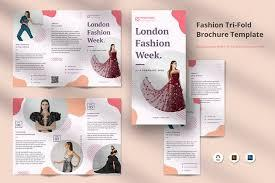paper: (10, 9, 226, 176)
